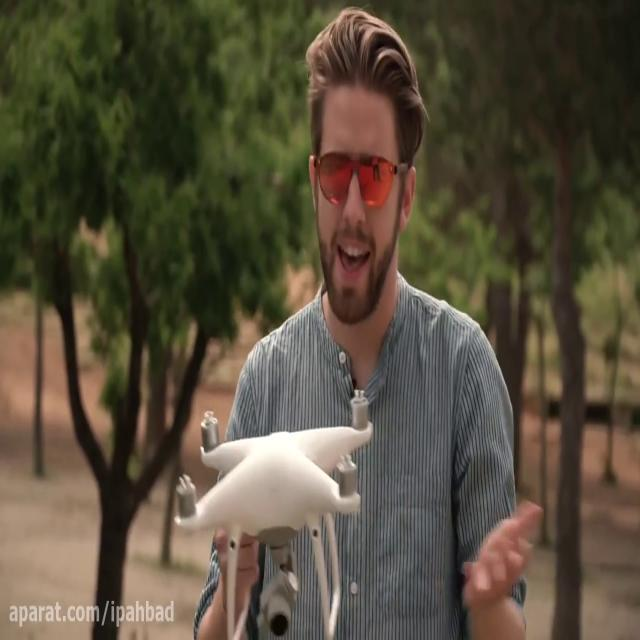drone: (173, 381, 375, 639)
